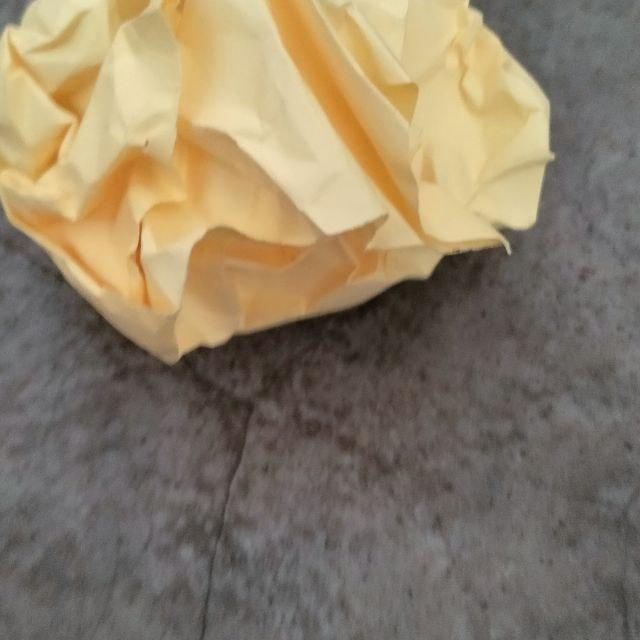paper: (0, 0, 563, 386)
